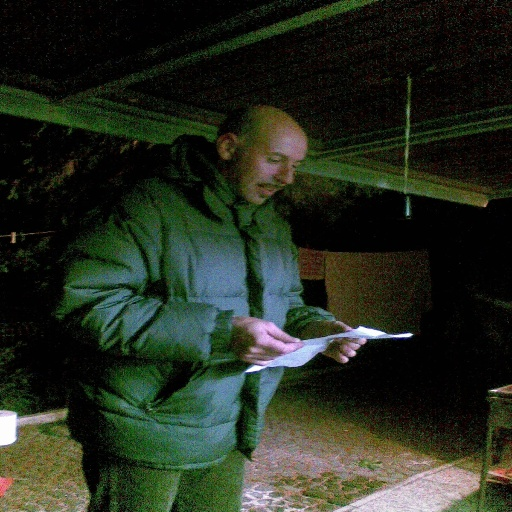hand: (296, 319, 369, 364), (233, 320, 296, 371)
